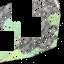Purslane: (0, 0, 63, 64)
